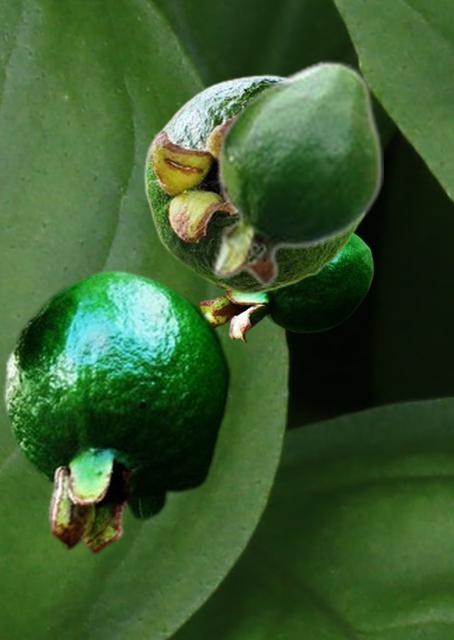guava: (3, 268, 232, 554), (143, 74, 368, 294), (212, 59, 382, 288), (198, 233, 373, 342)
